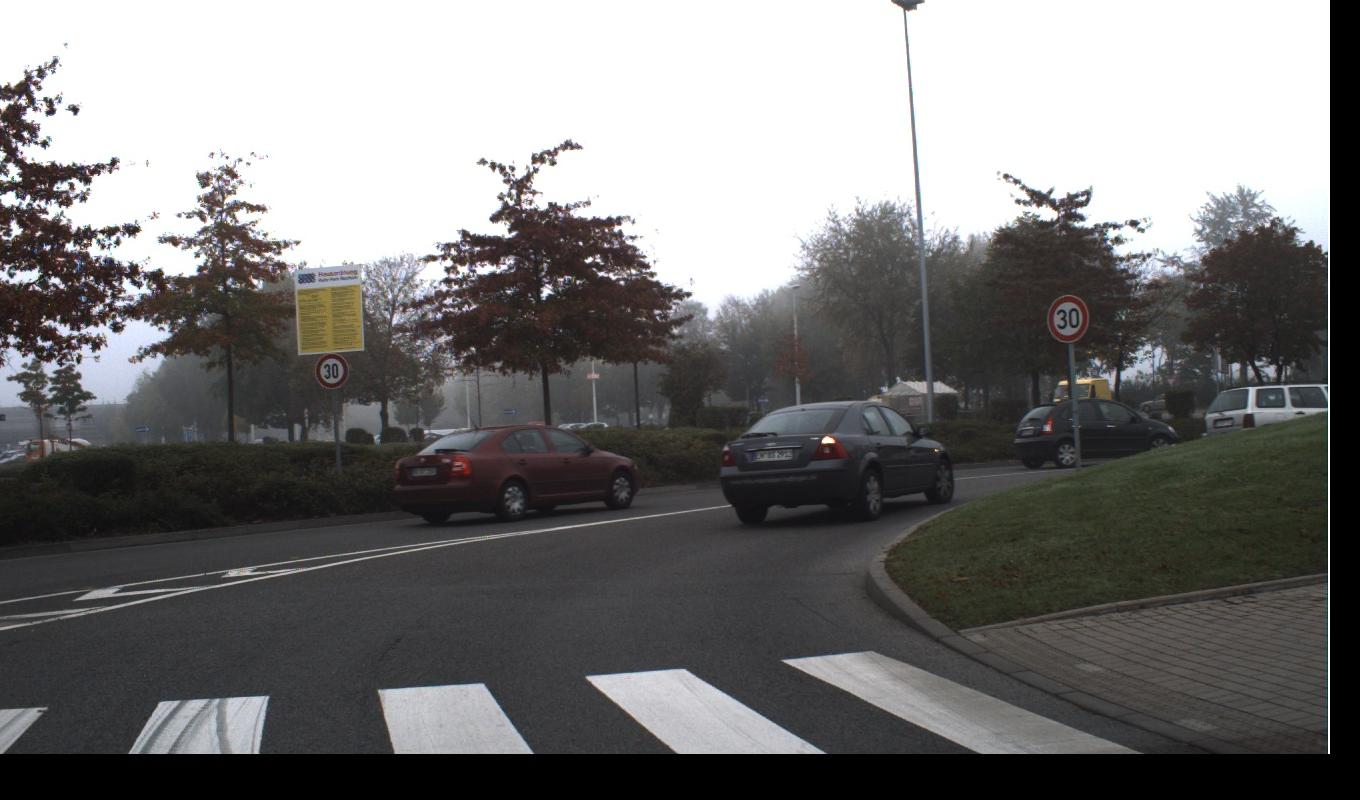speed limit 30: (314, 293, 1089, 390)
